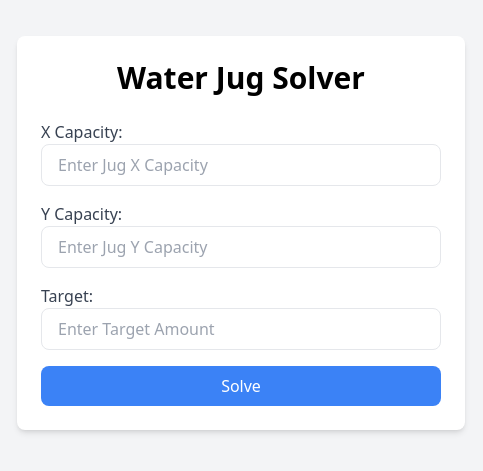
WaterJugSolver › displays an error message when inputs are empty and the button is clicked
The image size is (483, 471).
Click the button with test id "Solve". click: click(241, 386)
box: [41,366,441,406]
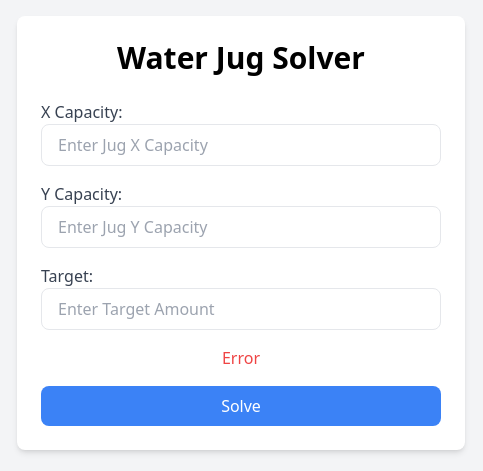
Expected: the text "Error" is shown, [222,347,260,369]
